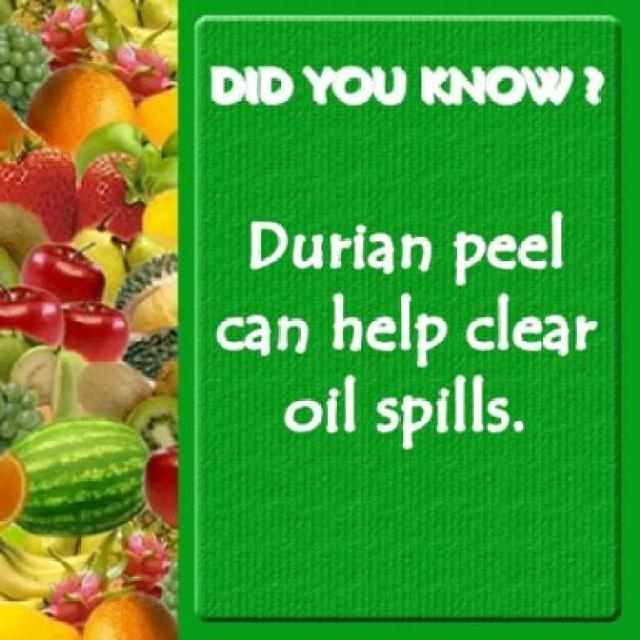Watermelon: (9, 417, 152, 534)
